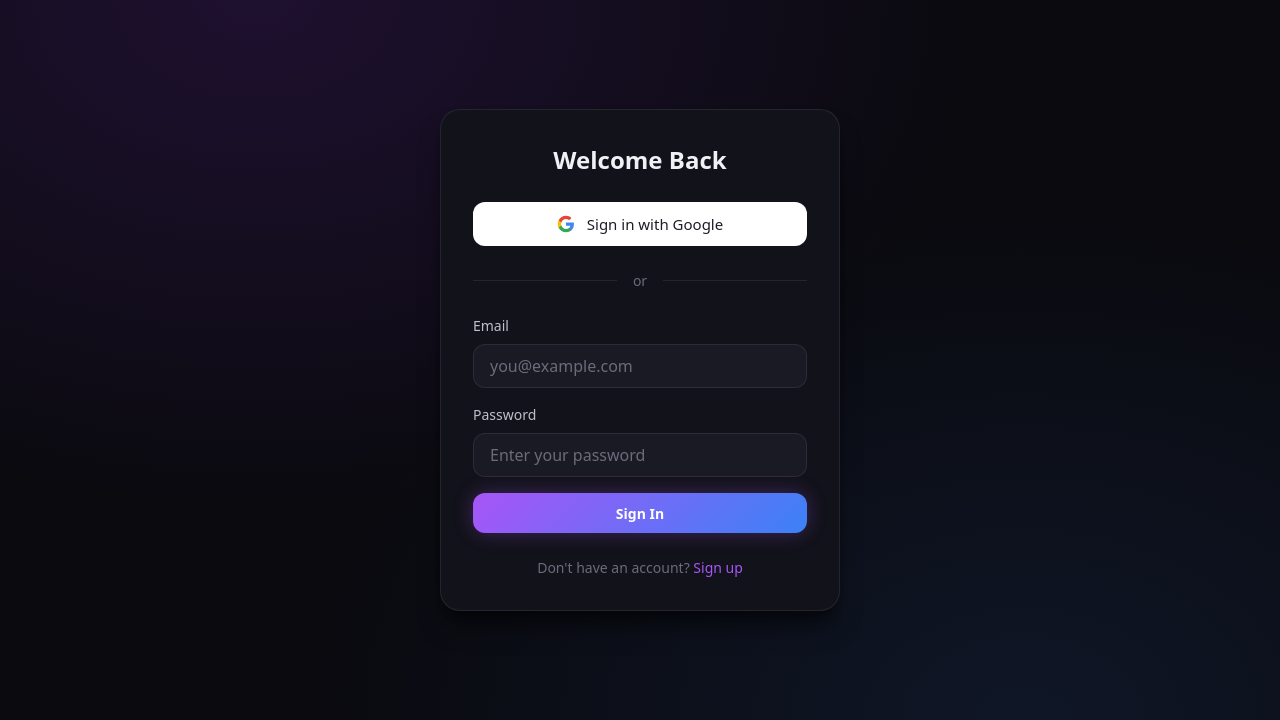
Test: LoginPage › form validation › should show error when password is empty
Type "test@example.com" into the field labelled "Email".
click(640, 366); type("test@example.com")  # box [473,344,807,388]
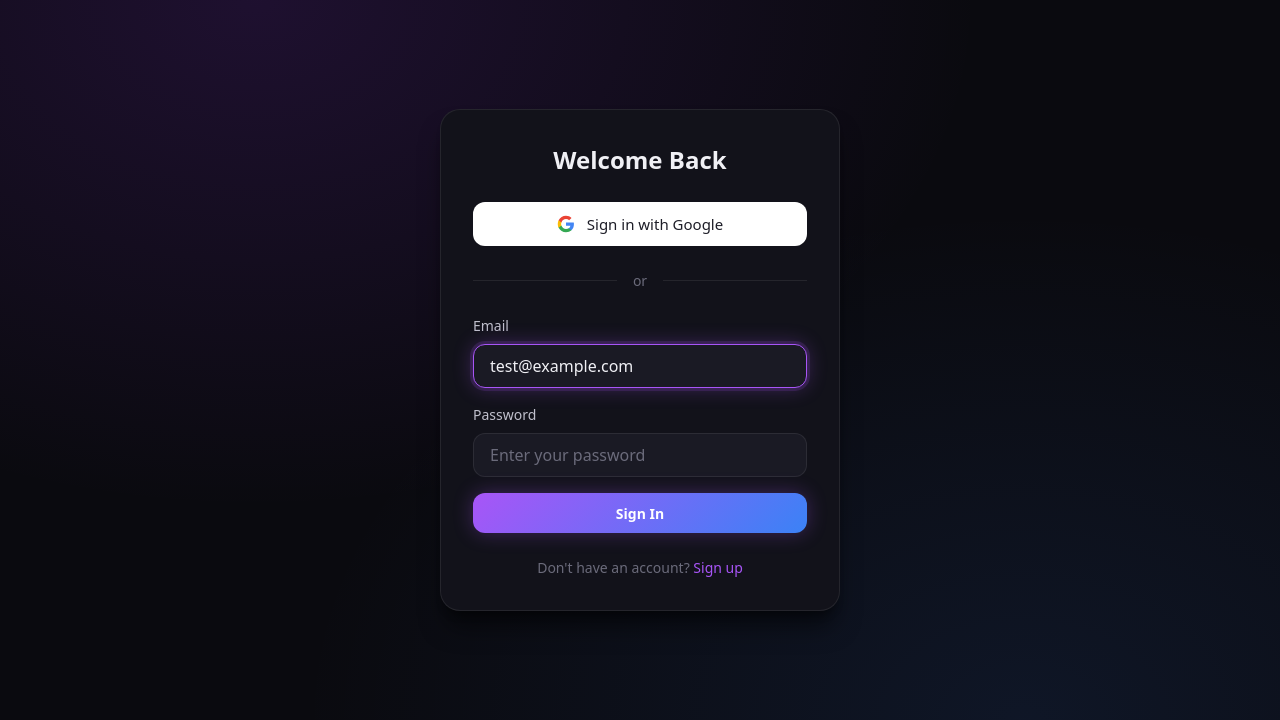
Click the button "Sign In".
click(640, 513)  # box [473,493,807,533]
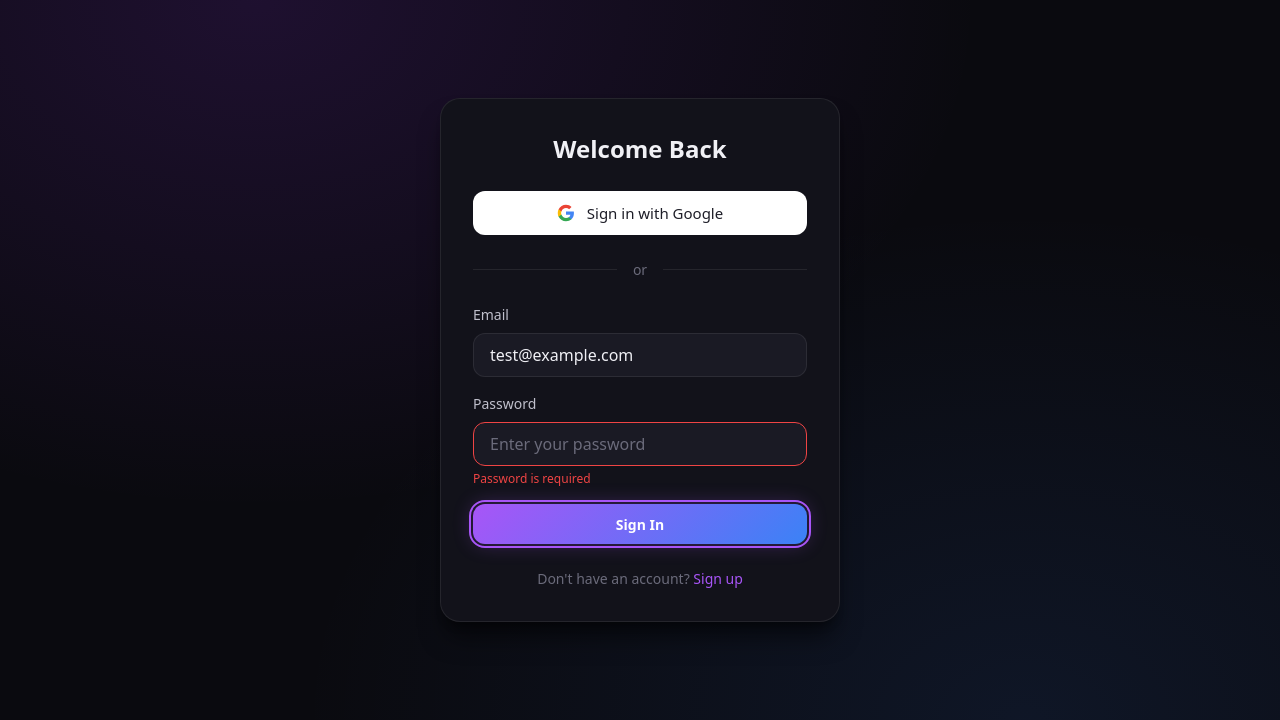
expect the text "Password is required" is shown: met, box [473,470,591,487]
